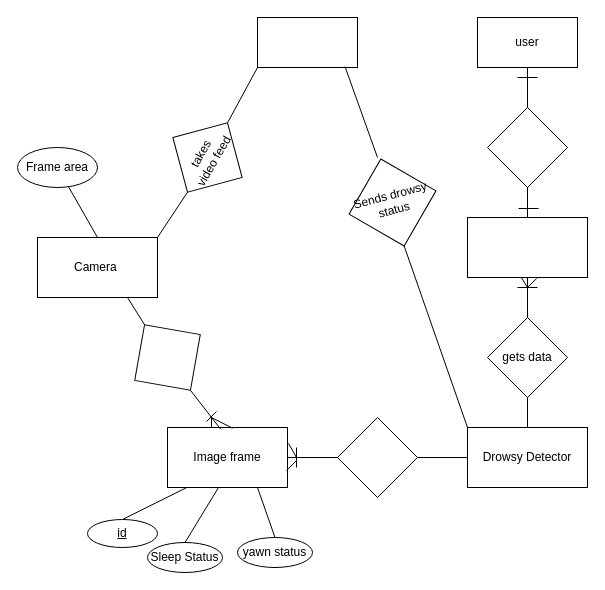
The diagram is 605 pixels wide and 590 high, and some of its shapes have lost their labels. The shapes that lost their labels are listed below. From the top down, each one's centre as x and y in pixels, then its label:
the point at 307,42: Driver
the point at 527,147: pushes notification
the point at 527,247: Client system
the point at 167,357: provides
the point at 377,457: Detects
